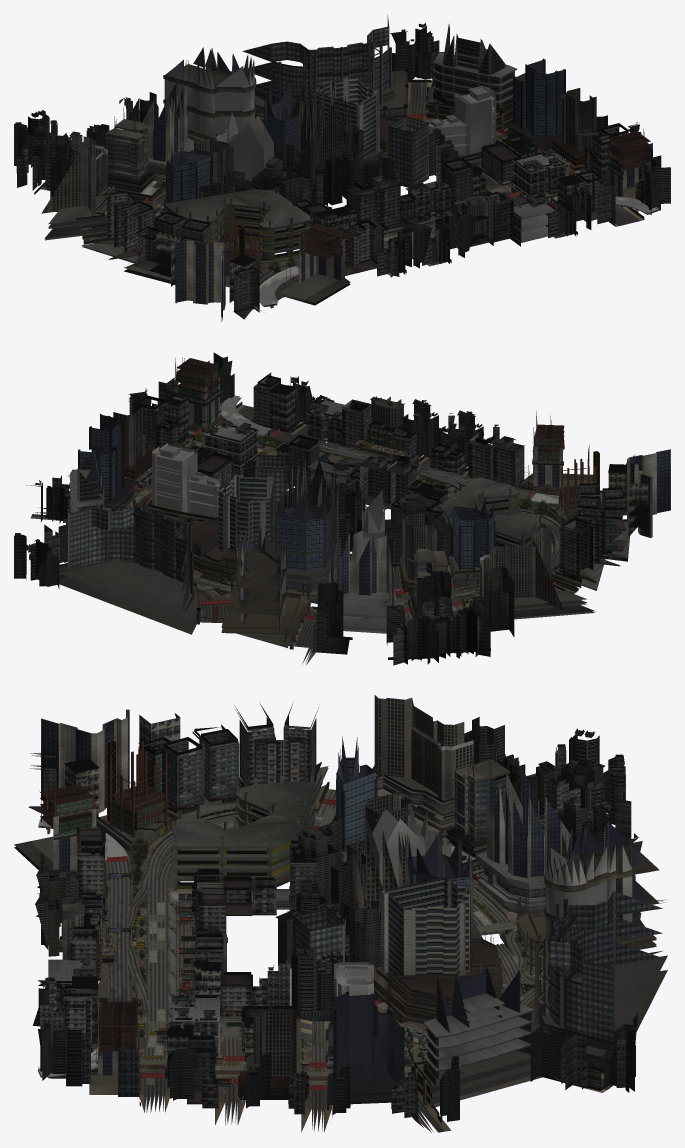
File: city_spain.glb
3 views of the same model, one above another, from view 1: azimuth 30°, elevation 25°; view 2: azimuth 150°, elevation 25°; view 3: azimuth 270°, elevation 25° (orthographic). The views are drawn at different scales.
Bounding box in the file's own units: 624 × 114 × 487.
100 materials, 99 textured.
